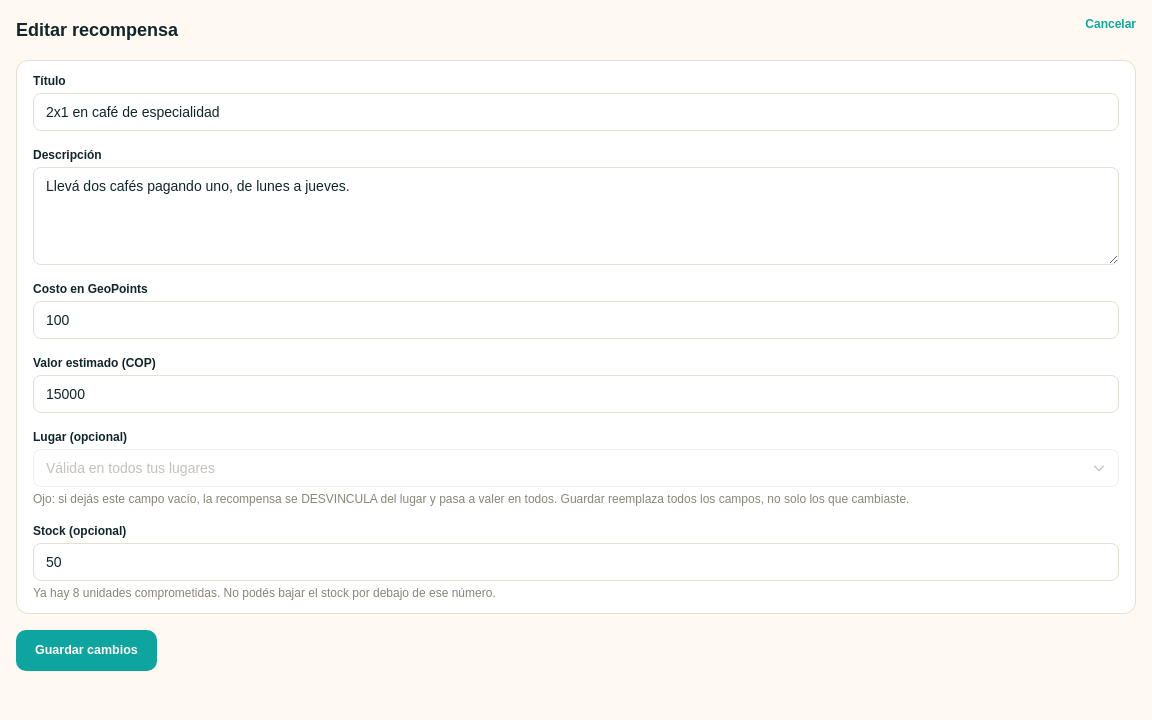
Scenario: RewardEditPage › el 409 de stock dice CUÁNTAS unidades están comprometidas
Expected: the field labelled "Título" is shown, 33,93 -> 1119,131
Replace the text in the number field labelled "Stock (opcional)" with "3" at (576, 562), box 33,543 -> 1119,581
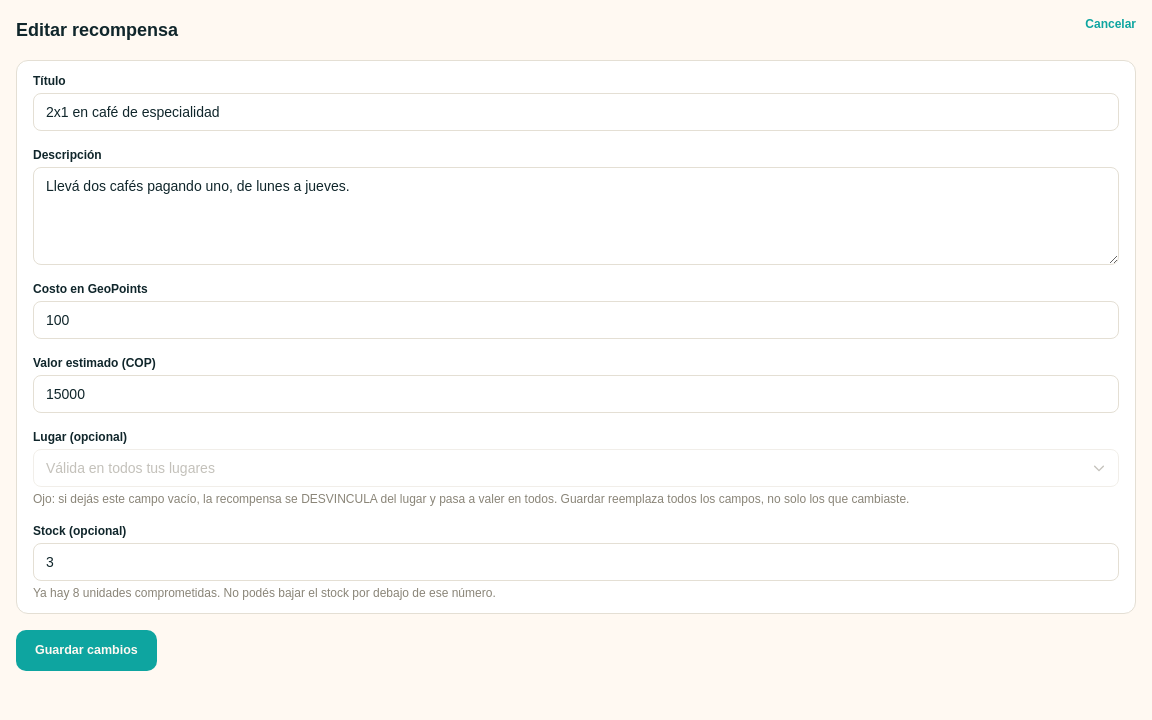
Click the button "Guardar cambios" at (86, 650), box 16,630 -> 157,671
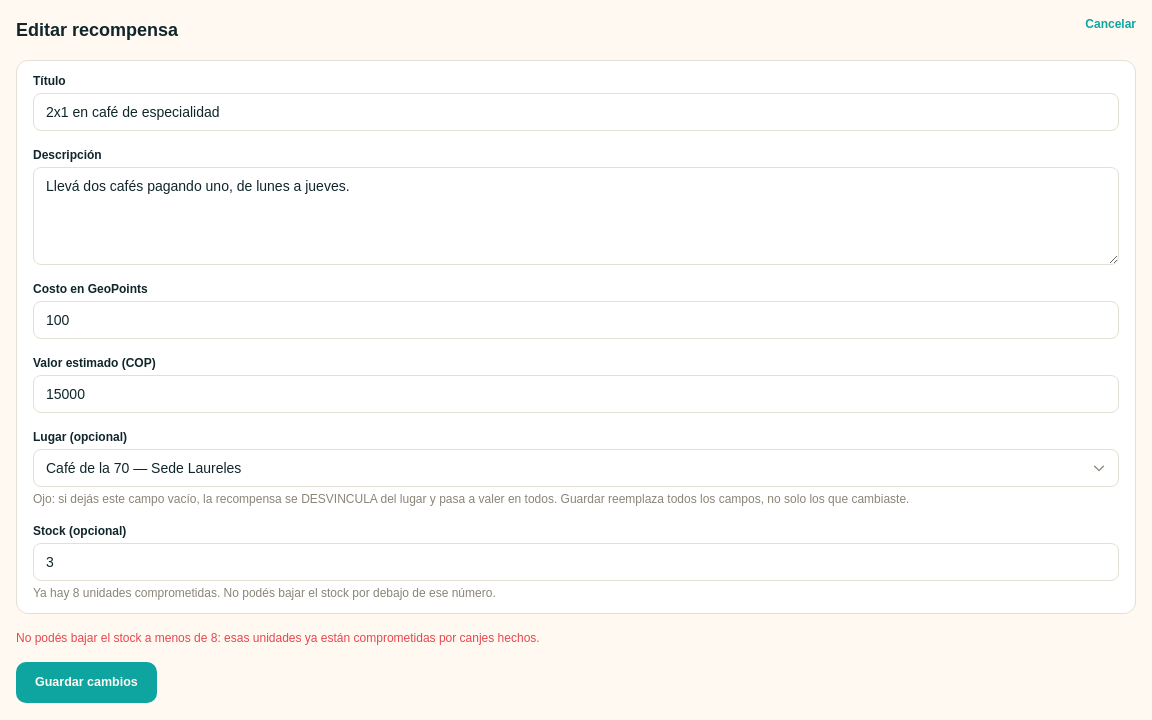
Expected: the message shows "No podés bajar el stock a menos de 8", 16,631 -> 540,645
